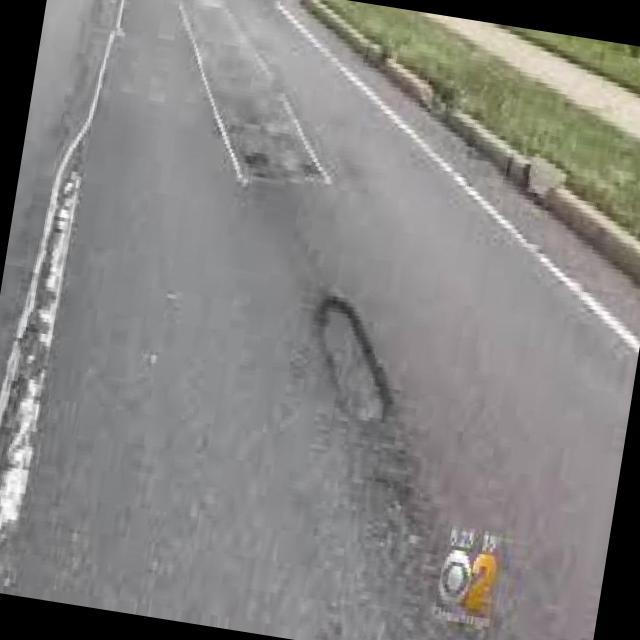Pothole: (314, 292, 393, 427)
